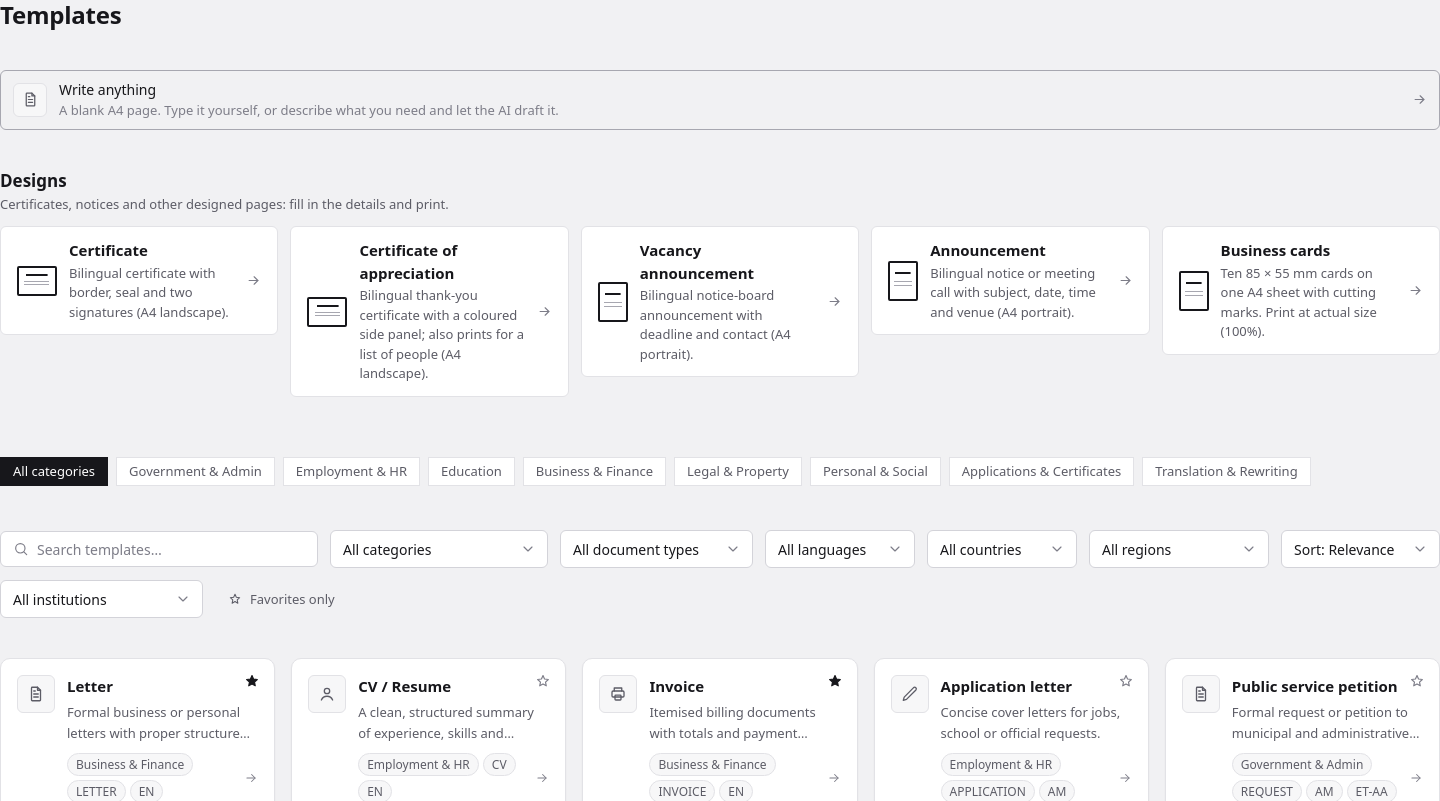
TemplatesPage Filtering & Multilingual Browser › filters by document type and country separately
Select "Contract & agreement" in the dropdown named "Document type" at (656, 549), box [560,530,753,568]
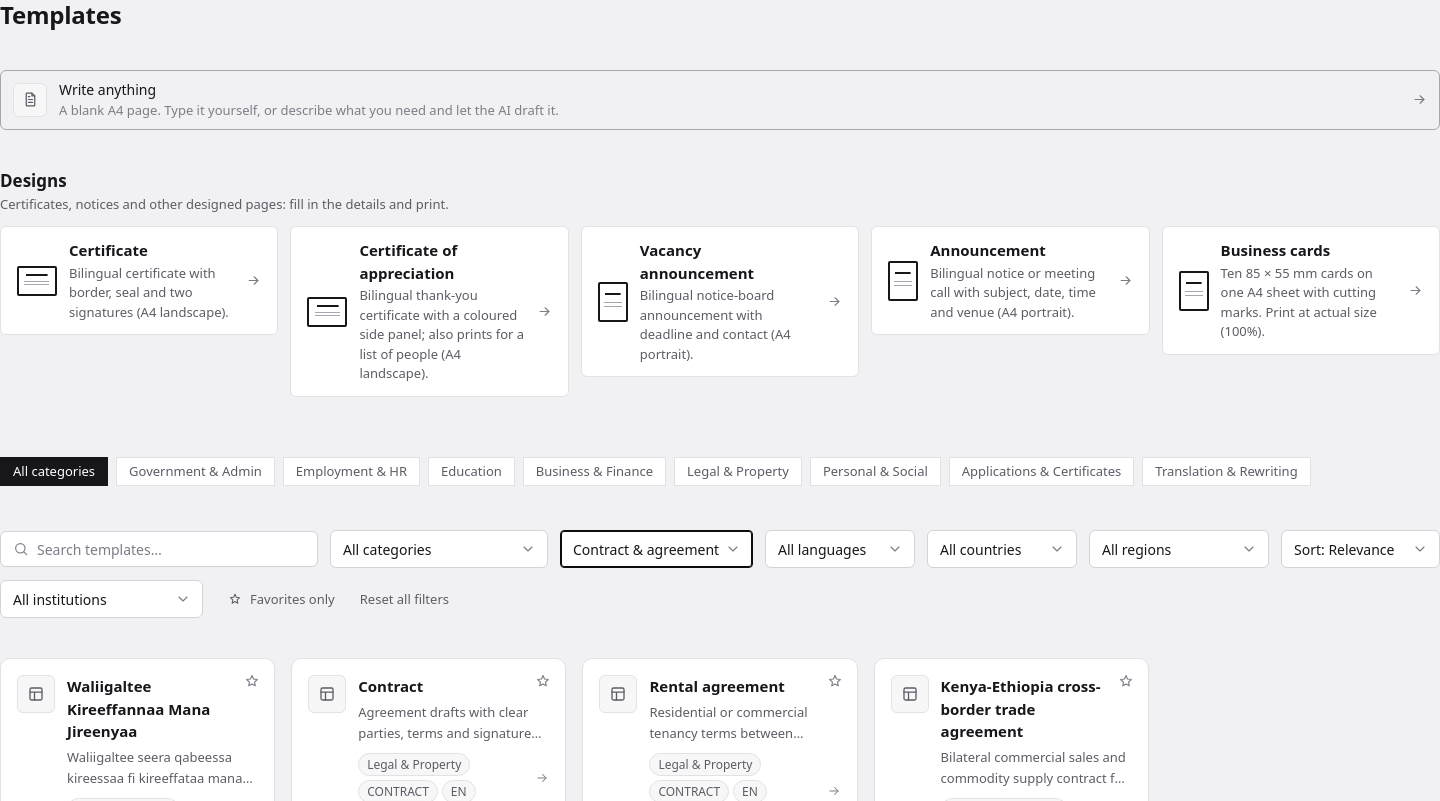
Now the text "Agreement drafts with clear parties, terms and signature blocks." is shown, box [358,702,549,745]
Now the button "Reset all filters" is shown
Click the button "Reset all filters".
click(404, 599)  # box [360,590,449,609]
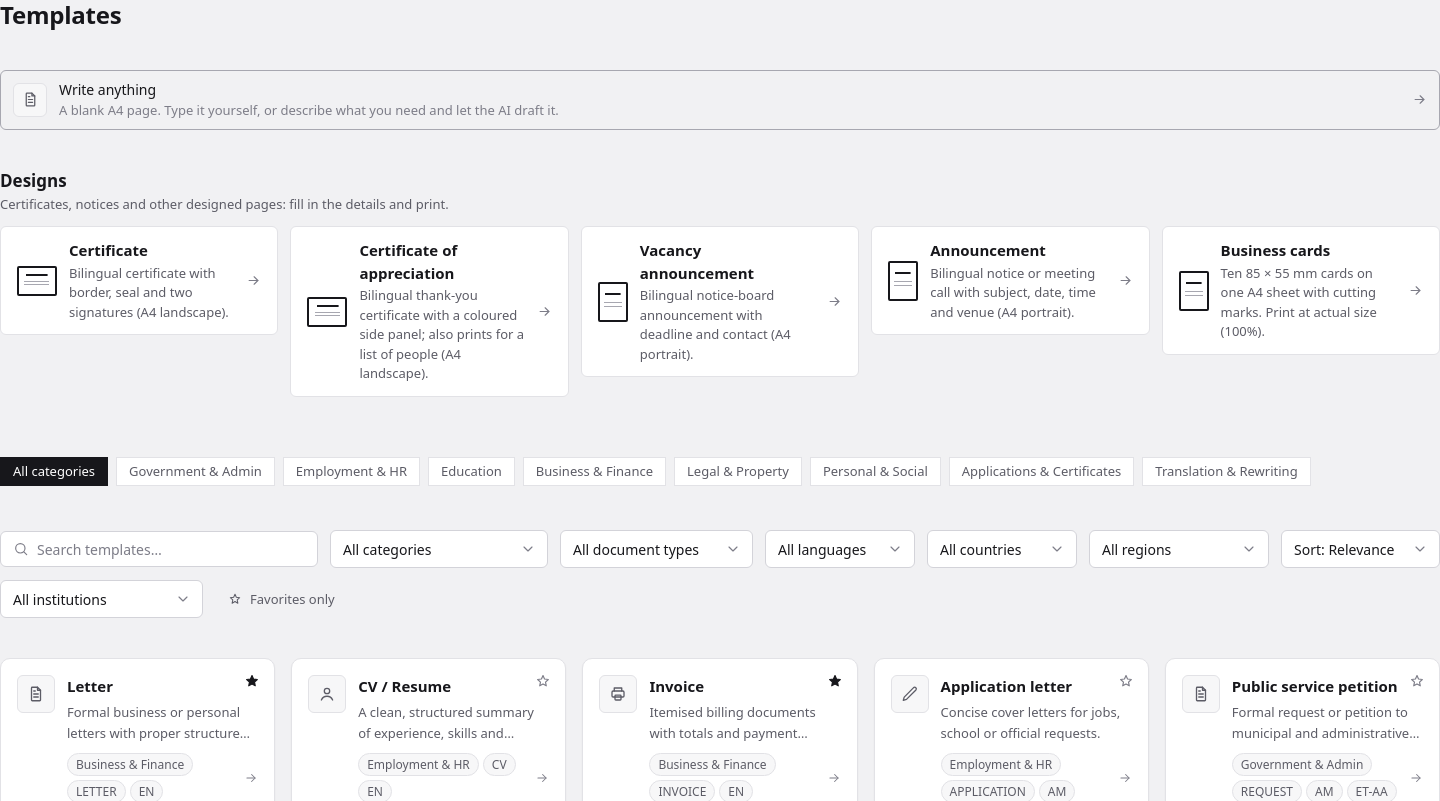
Now the button "Reset all filters" is gone
